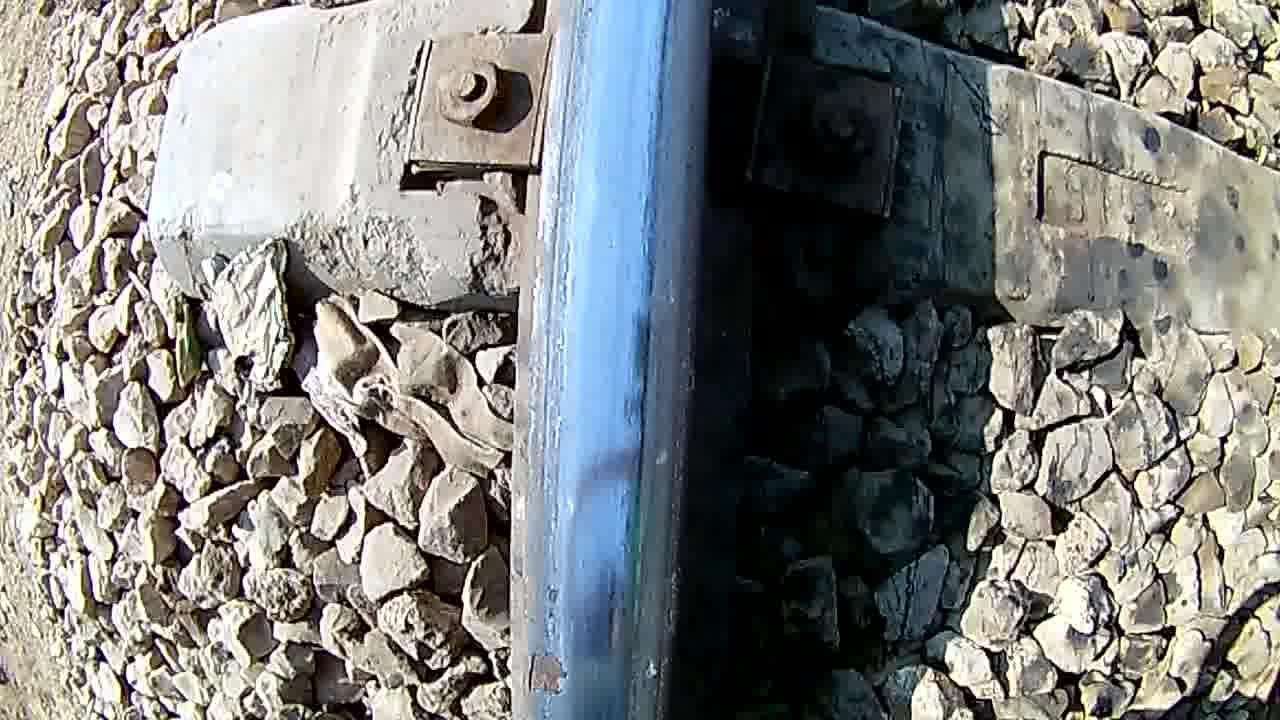crack: (517, 44, 683, 720)
